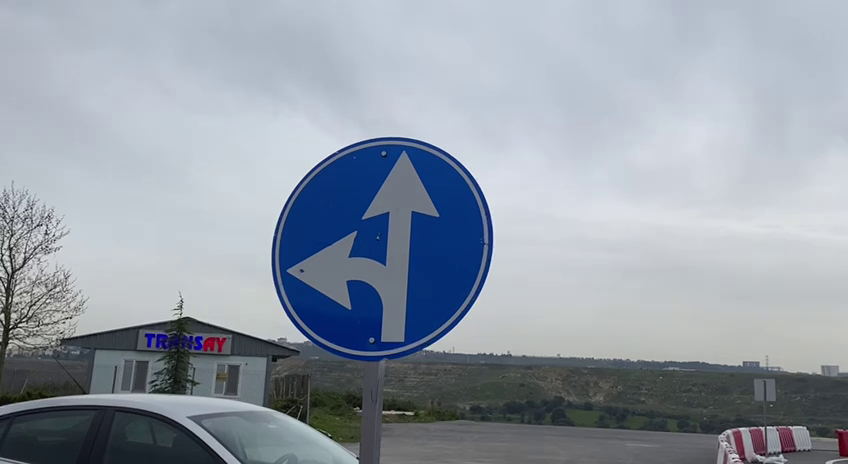forwardAndLeft: (269, 136, 496, 360)
